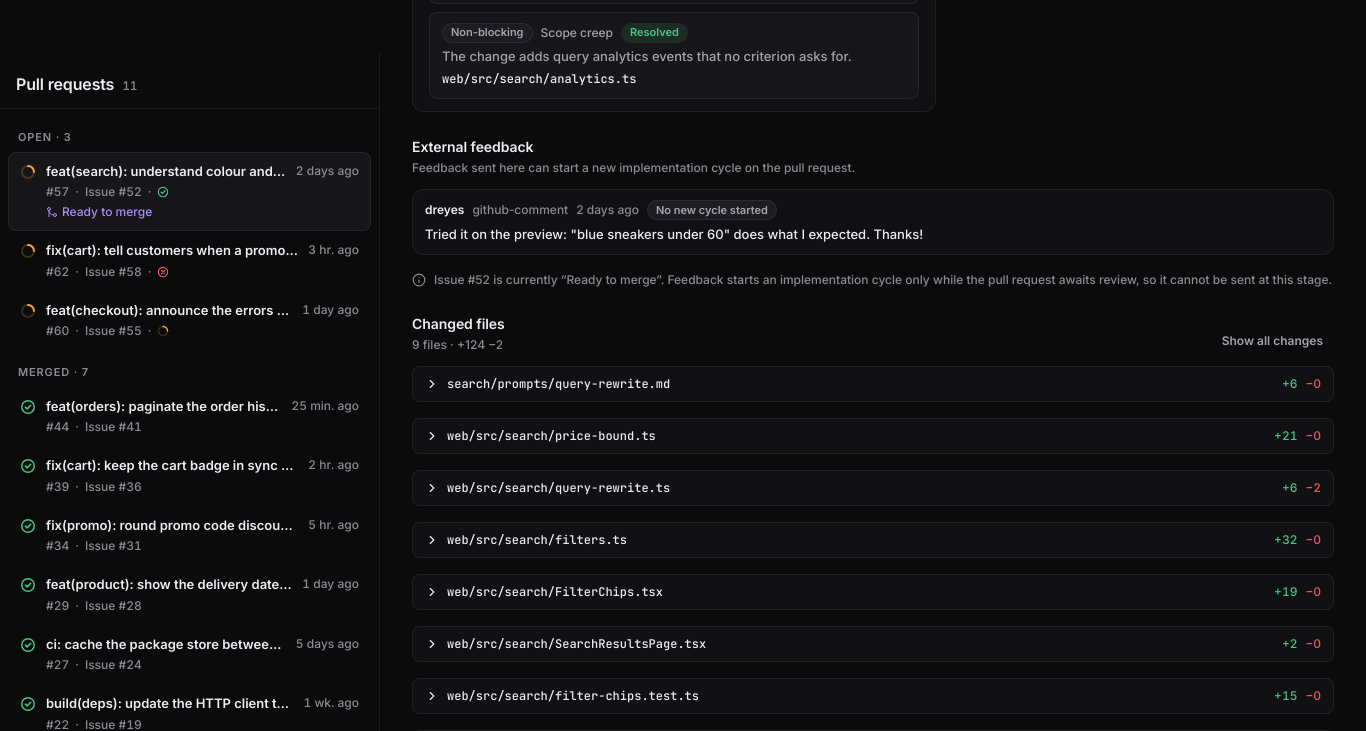
Test case: PullRequestsView patches that cannot be shown whole › says that a patch is cut when the change is too large to show whole
The image size is (1366, 731).
(page scrolled)
Click the button "search/prompts/query-rewrite.md +6 −0" at (559, 384), box top-left (412, 366), bottom-right (1334, 402)
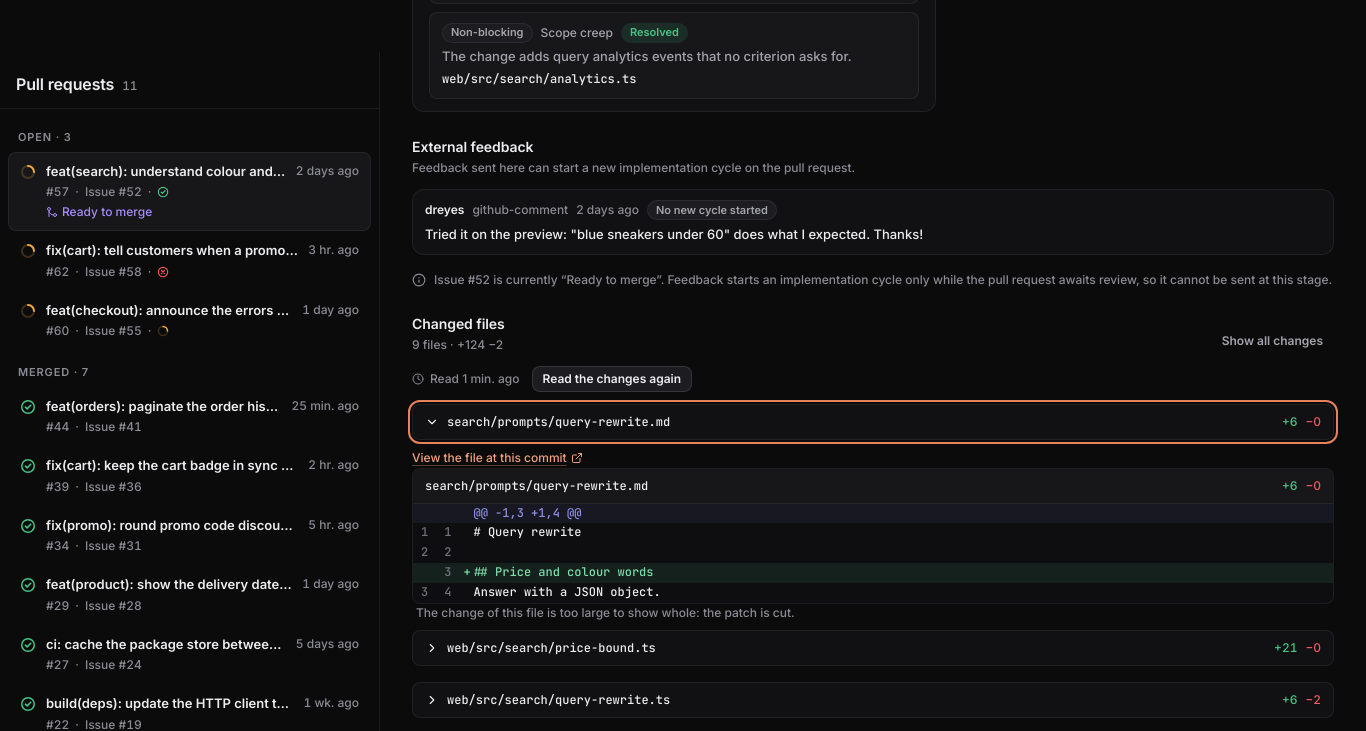
expect the text "The change of this file is too large to show whole: the patch is cut." is shown: met, box top-left (416, 605), bottom-right (795, 620)
